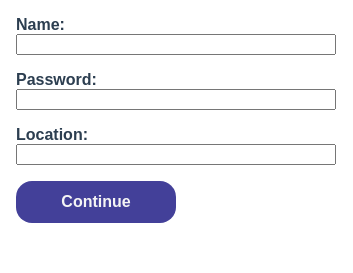
Test: sign-in-form › should show error message when password is not valid
Step 1. Type "test-name" into the field with class "sign-in-form__input-name" → (176, 44), box [16,34,336,55]
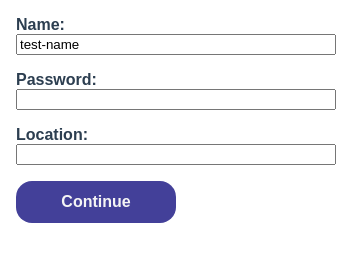
Step 2. Type "illpassword" into the password field with class "sign-in-form__input-password" → (176, 100), box [16,89,336,110]
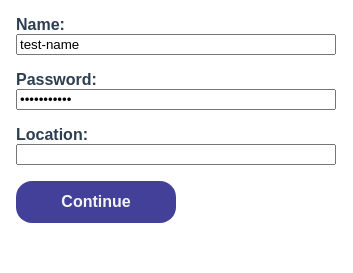
Step 3. Submit the form with class "sign-in-form"
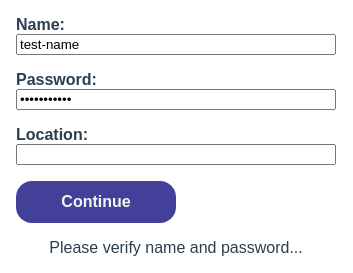
Expected: the element with class "sign-in-form__message--error" is shown, [49,239,303,256]
